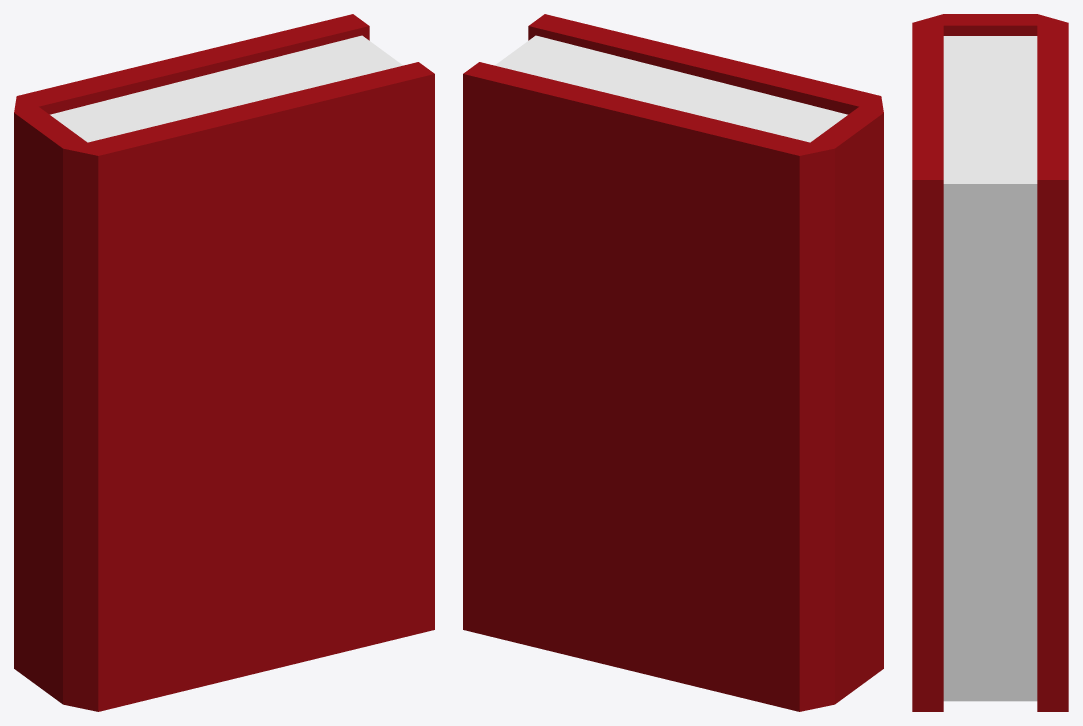
Rendered from book_01_mockup.fbx.
3 renders of one model, left to right at view 1: azimuth 30°, elevation 25°; view 2: azimuth 150°, elevation 25°; view 3: azimuth 270°, elevation 25°, orthographic. The views are drawn at different scales.
Parts seen in each view (by area): view 1: Plane; view 2: Plane; view 3: Plane.
Part boxes in pixels (x1,y1,x2,y2): Plane: (14, 14, 434, 711); Plane: (463, 14, 883, 711); Plane: (912, 14, 1068, 711).
Size of the model in its own units: 0.2007 by 0.08 by 0.3.
